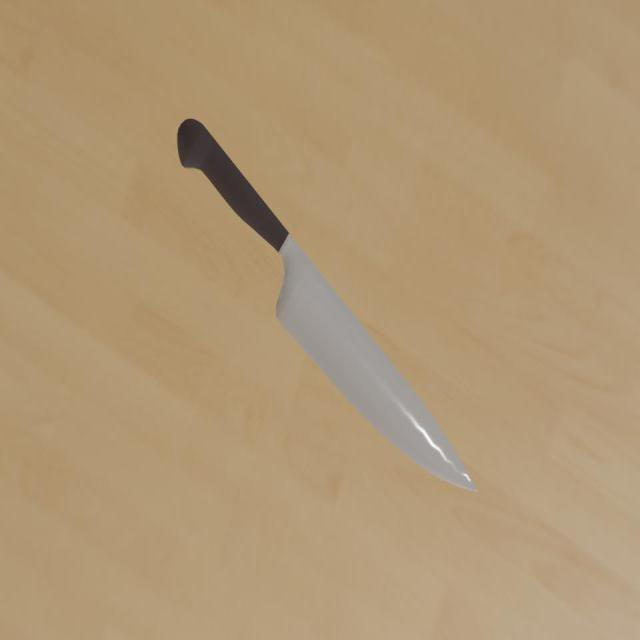knife: (178, 119, 289, 256)
